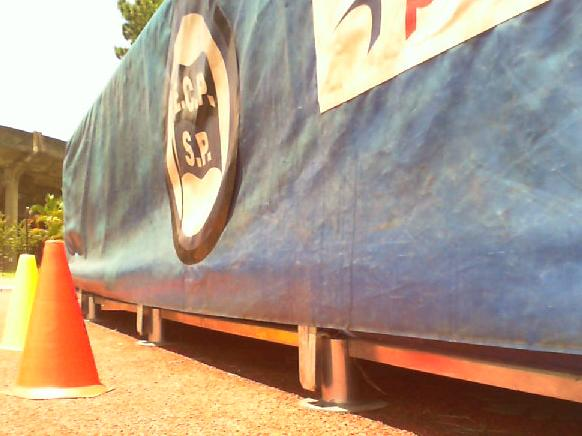0 cone: (0, 240, 116, 400), (0, 254, 38, 351)
